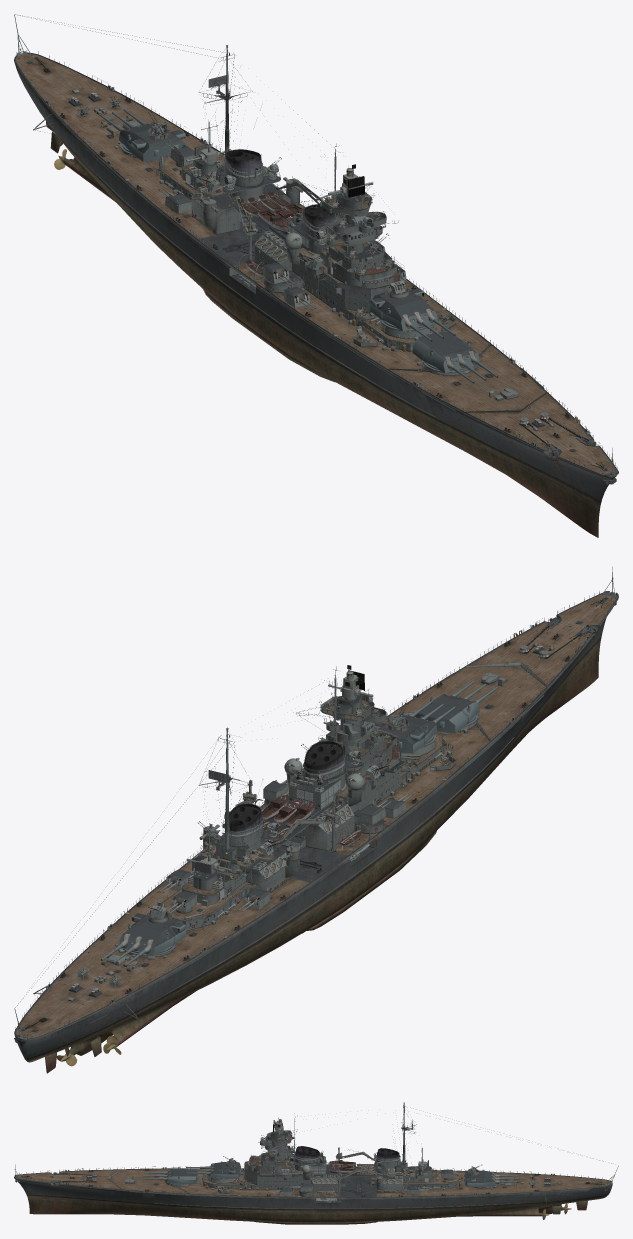
Rendered from O-ClassBattlecruiserHagen-maximum-compressed.glb.
3 views of the same model, one above another, from view 1: azimuth 30°, elevation 25°; view 2: azimuth 150°, elevation 25°; view 3: azimuth 270°, elevation 25° (orthographic). The views are drawn at different scales.
Parts seen in each view (by area): view 1: GSC022_Siegfried_1945_midfront_gsc022_siegfried_1945_272_0, GSC022_Siegfried_1945_bow_gsc022_siegfried_1945_272_0, GSC022_Siegfried_1945_midback_gsc022_siegfried_1945_272_0, GSC022_Siegfried_1945_stern_gsc022_siegfried_1945_272_0, GSC022_Siegfried_1945_midback_gsc022_siegfried_1945_deckhous (×2), GSC022_Siegfried_1945_midfront_gsc022_siegfried_1945_deckhou (×2), object 405, ggm079_305mm_56_skc_040, ggm080_305mm_56_skc_39_rf002_ggm080_305mm_56_skc_39_rf_skinn, ggm080_305mm_56_skc_39_rf003_ggm080_305mm_56_skc_39_rf_skinn, object 402; view 2: GSC022_Siegfried_1945_midfront_gsc022_siegfried_1945_272_0, GSC022_Siegfried_1945_midback_gsc022_siegfried_1945_272_0, GSC022_Siegfried_1945_bow_gsc022_siegfried_1945_272_0, GSC022_Siegfried_1945_stern_gsc022_siegfried_1945_272_0, GSC022_Siegfried_1945_midback_gsc022_siegfried_1945_deckhous (×2), GSC022_Siegfried_1945_midfront_gsc022_siegfried_1945_deckhou (×2), object 405, ggm080_305mm_56_skc_39_rf003_ggm080_305mm_56_skc_39_rf_skinn, ggm079_305mm_56_skc_040, ggm080_305mm_56_skc_39_rf002_ggm080_305mm_56_skc_39_rf_skinn, object 409; view 3: GSC022_Siegfried_1945_midfront_gsc022_siegfried_1945_272_0, GSC022_Siegfried_1945_midback_gsc022_siegfried_1945_272_0, GSC022_Siegfried_1945_bow_gsc022_siegfried_1945_272_0, GSC022_Siegfried_1945_stern_gsc022_siegfried_1945_272_0, GSC022_Siegfried_1945_midback_gsc022_siegfried_1945_deckhous (×2), GSC022_Siegfried_1945_midfront_gsc022_siegfried_1945_deckhou (×2), object 405, ggm079_305mm_56_skc_040, ggm080_305mm_56_skc_39_rf003_ggm080_305mm_56_skc_39_rf_skinn, ggm080_305mm_56_skc_39_rf002_ggm080_305mm_56_skc_39_rf_skinn, object 409, object 402.
Boxes of the visible parts, <box> form: GSC022_Siegfried_1945_midfront_gsc022_siegfried_1945_272_0: <box>199,209,531,451</box>; GSC022_Siegfried_1945_bow_gsc022_siegfried_1945_272_0: <box>422,368,618,537</box>; GSC022_Siegfried_1945_midback_gsc022_siegfried_1945_272_0: <box>64,105,305,294</box>; GSC022_Siegfried_1945_stern_gsc022_siegfried_1945_272_0: <box>14,14,141,173</box>; GSC022_Siegfried_1945_midback_gsc022_siegfried_1945_deckhous (×2): <box>15,14,290,246</box>; GSC022_Siegfried_1945_midfront_gsc022_siegfried_1945_deckhou (×2): <box>215,72,526,397</box>; object 405: <box>319,192,392,254</box>; ggm079_305mm_56_skc_040: <box>412,331,498,383</box>; ggm080_305mm_56_skc_39_rf002_ggm080_305mm_56_skc_39_rf_skinn: <box>370,288,455,341</box>; ggm080_305mm_56_skc_39_rf003_ggm080_305mm_56_skc_39_rf_skinn: <box>100,109,185,161</box>; object 402: <box>328,242,383,272</box>; GSC022_Siegfried_1945_midfront_gsc022_siegfried_1945_272_0: <box>202,681,532,929</box>; GSC022_Siegfried_1945_midback_gsc022_siegfried_1945_272_0: <box>65,812,322,1039</box>; GSC022_Siegfried_1945_bow_gsc022_siegfried_1945_272_0: <box>422,566,618,751</box>; GSC022_Siegfried_1945_stern_gsc022_siegfried_1945_272_0: <box>14,969,142,1073</box>; GSC022_Siegfried_1945_midback_gsc022_siegfried_1945_deckhous (×2): <box>15,730,322,1007</box>; GSC022_Siegfried_1945_midfront_gsc022_siegfried_1945_deckhou (×2): <box>206,679,526,862</box>; object 405: <box>319,689,399,759</box>; ggm080_305mm_56_skc_39_rf003_ggm080_305mm_56_skc_39_rf_skinn: <box>100,912,186,966</box>; ggm079_305mm_56_skc_040: <box>414,680,498,733</box>; ggm080_305mm_56_skc_39_rf002_ggm080_305mm_56_skc_39_rf_skinn: <box>374,700,455,753</box>; object 409: <box>182,868,247,904</box>; GSC022_Siegfried_1945_midfront_gsc022_siegfried_1945_272_0: <box>142,1154,371,1224</box>; GSC022_Siegfried_1945_midback_gsc022_siegfried_1945_272_0: <box>361,1149,528,1222</box>; GSC022_Siegfried_1945_bow_gsc022_siegfried_1945_272_0: <box>14,1164,156,1215</box>; GSC022_Siegfried_1945_stern_gsc022_siegfried_1945_272_0: <box>529,1166,618,1216</box>; GSC022_Siegfried_1945_midback_gsc022_siegfried_1945_deckhous (×2): <box>366,1103,611,1196</box>; GSC022_Siegfried_1945_midfront_gsc022_siegfried_1945_deckhou (×2): <box>145,1122,401,1196</box>; object 405: <box>258,1130,295,1162</box>; ggm079_305mm_56_skc_040: <box>143,1167,198,1185</box>; ggm080_305mm_56_skc_39_rf003_ggm080_305mm_56_skc_39_rf_skinn: <box>464,1168,519,1188</box>; ggm080_305mm_56_skc_39_rf002_ggm080_305mm_56_skc_39_rf_skinn: <box>186,1160,240,1179</box>; object 409: <box>403,1166,439,1182</box>; object 402: <box>259,1153,285,1167</box>.
Bounding box in the file's own units: 0.0204 × 0.0352 × 0.173.
80 materials, 78 textured.
